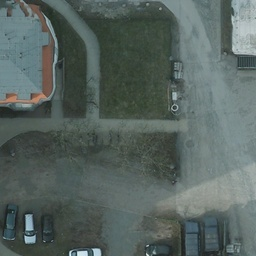car: (2, 205, 18, 240), (24, 212, 36, 244), (42, 214, 53, 247)
